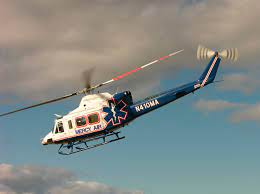heli: (0, 46, 238, 156)
